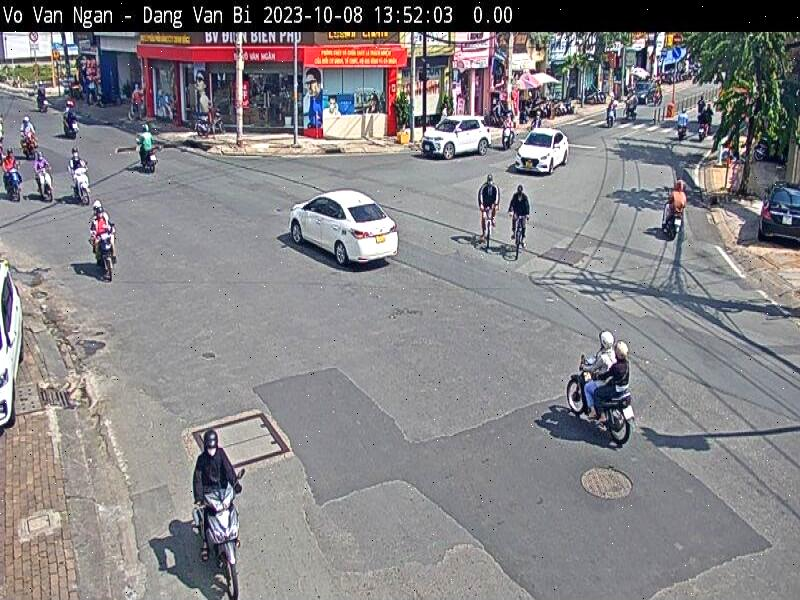car: (287, 191, 400, 270), (0, 260, 25, 439), (419, 116, 493, 161), (757, 179, 800, 251), (517, 128, 569, 176)
motorcycle: (194, 465, 244, 600), (566, 354, 636, 448), (92, 228, 118, 281), (69, 167, 90, 206), (664, 198, 682, 242), (4, 168, 23, 204), (36, 170, 54, 201), (139, 144, 158, 173), (20, 130, 38, 158), (502, 124, 515, 150), (607, 103, 616, 129)
